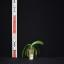leaf: (22, 44, 32, 58), (31, 44, 39, 54), (25, 46, 31, 56), (31, 41, 43, 46), (32, 46, 37, 55), (27, 48, 31, 57)
